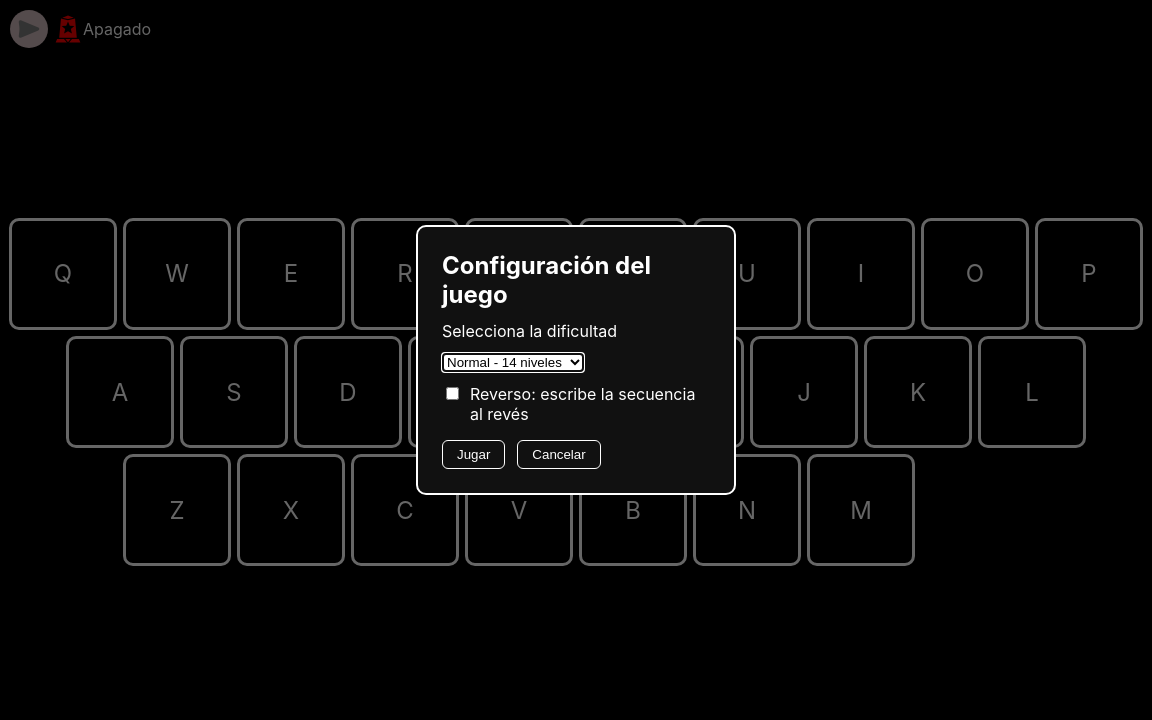
Test: GameScreen integration › plays a round by tapping the on-screen key
Select "Experto - 18 niveles" in the dropdown labelled "Selecciona la dificultad". click: {"x": 513, "y": 362}
box: left=442, top=353, right=584, bottom=372
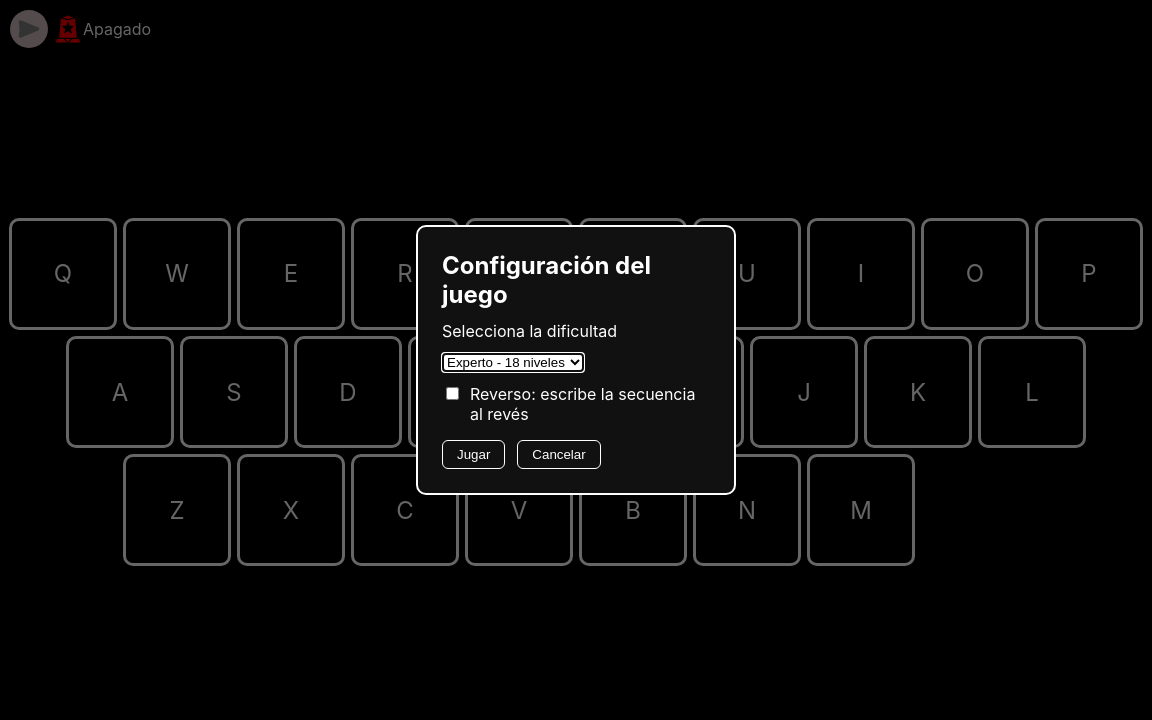
Click the button "Jugar". click: {"x": 474, "y": 454}
box: left=442, top=440, right=505, bottom=469
Wait 2400 ms
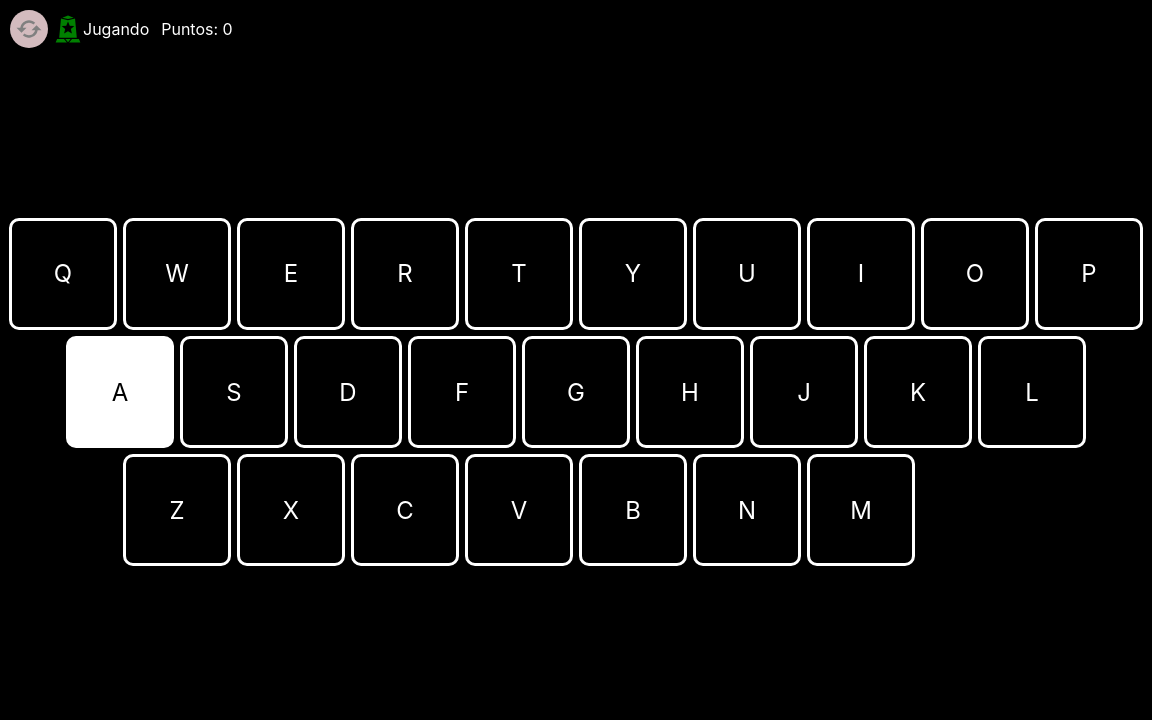
expect the button "A" has attribute data-status="active": met
Click the button "A". click: {"x": 120, "y": 392}
box: left=66, top=336, right=174, bottom=448
Wait 1000 ms
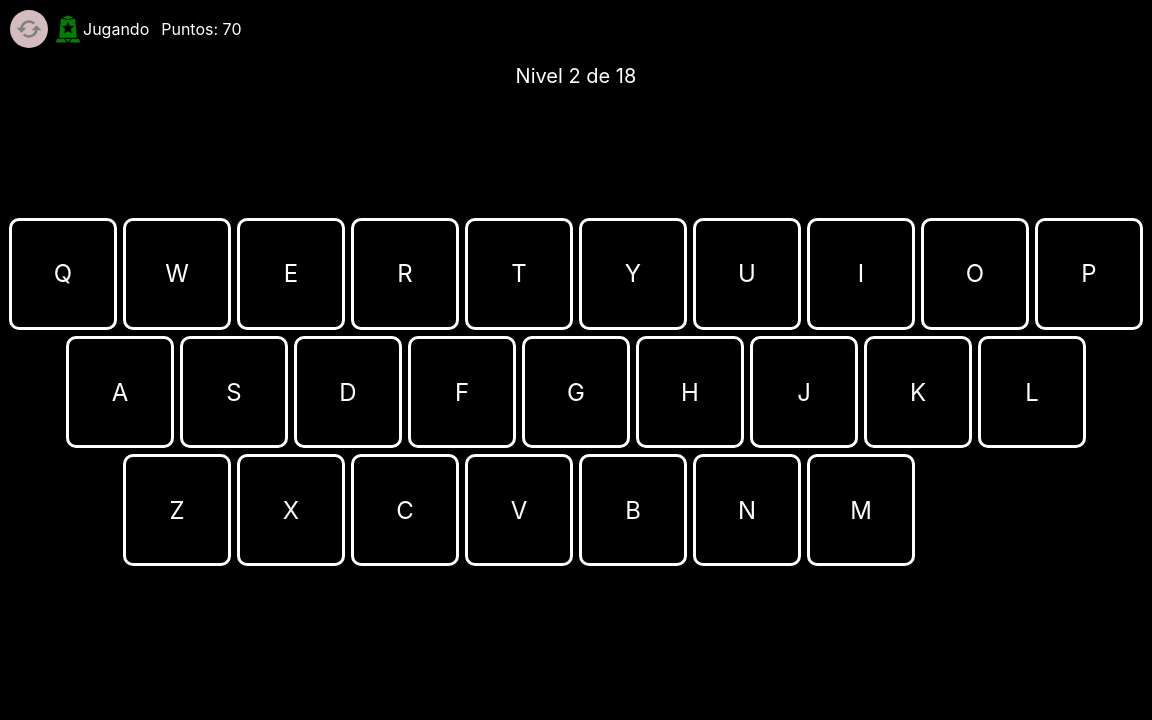
expect the message reads "Nivel 2 de 18": met, box left=516, top=64, right=636, bottom=88
